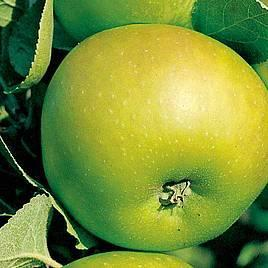apple: (41, 22, 268, 256)
